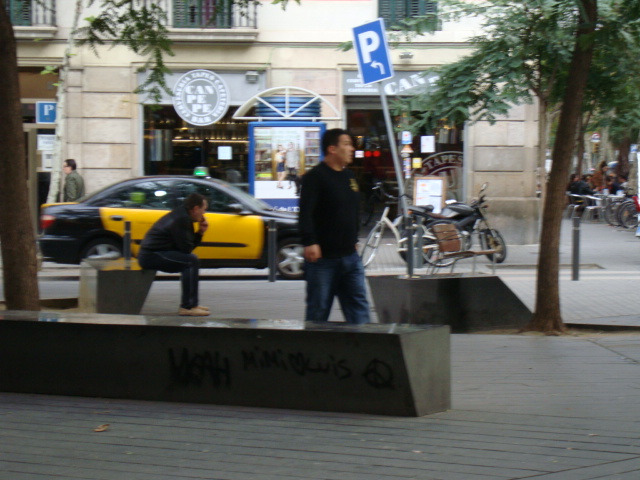undeflect: (299, 130, 363, 198)
